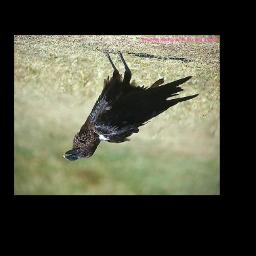Crow: (62, 50, 200, 162)
